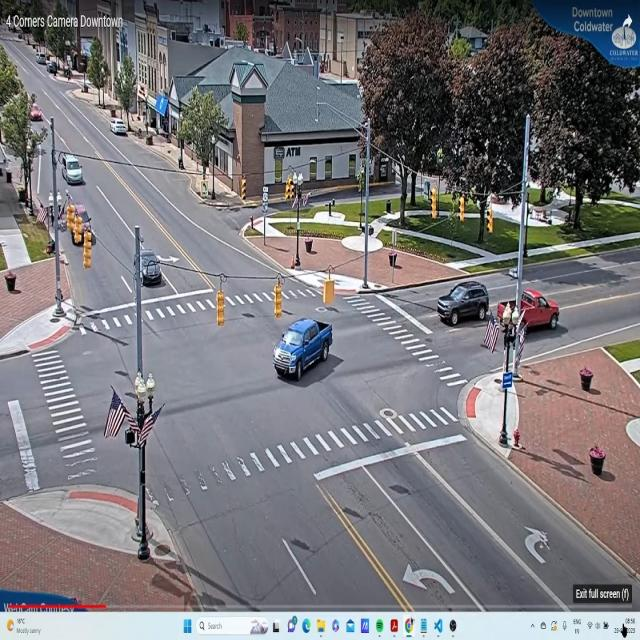car: (272, 318, 336, 380), (437, 281, 491, 326), (136, 236, 163, 287), (62, 155, 83, 186), (112, 121, 128, 136)
